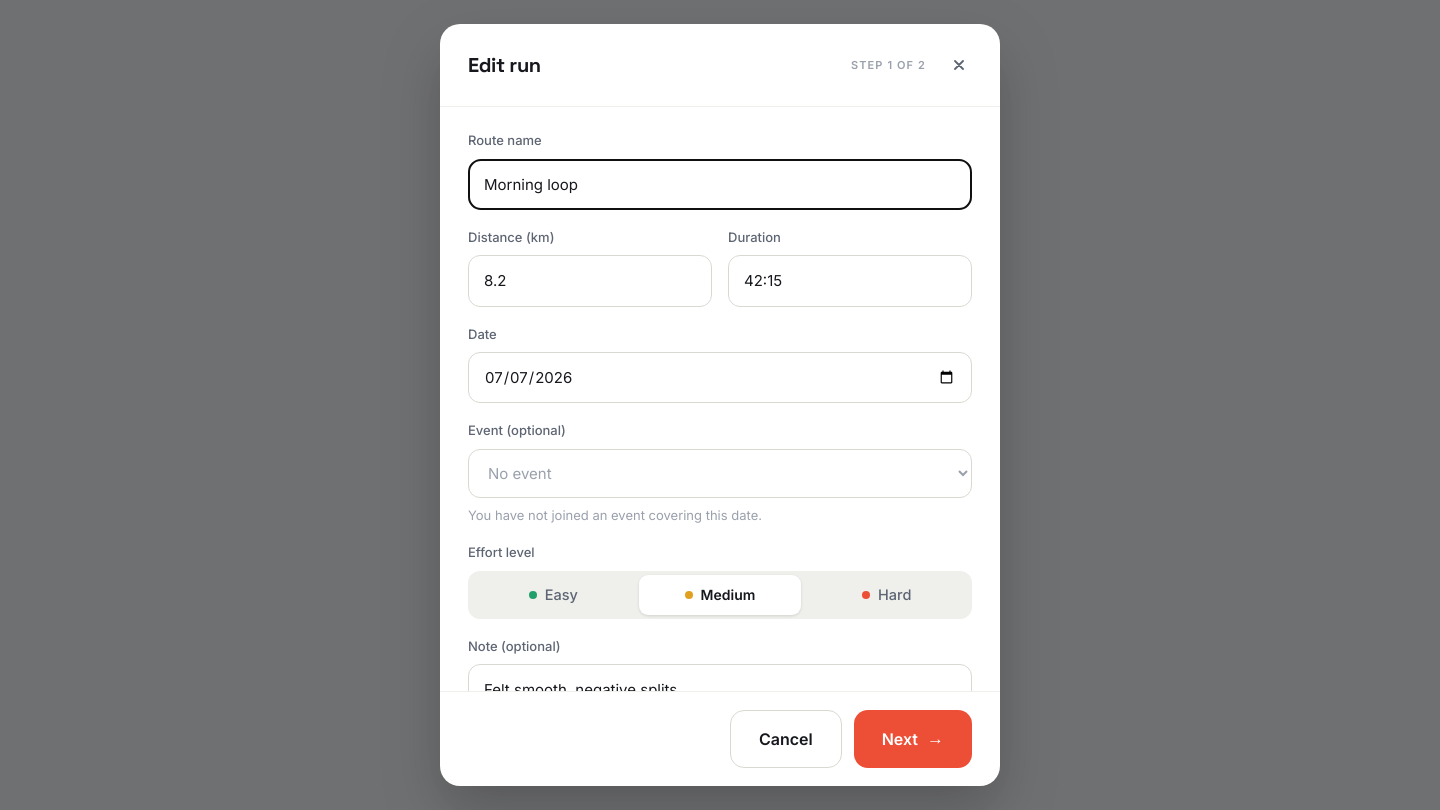
Test: Edit run modal (RUN-28) › refuses to save an empty route name and says so inline (AC4, EDT-3)
Clear the field labelled "Route name" at (720, 184), box x1=468 y1=158 x2=972 y2=210
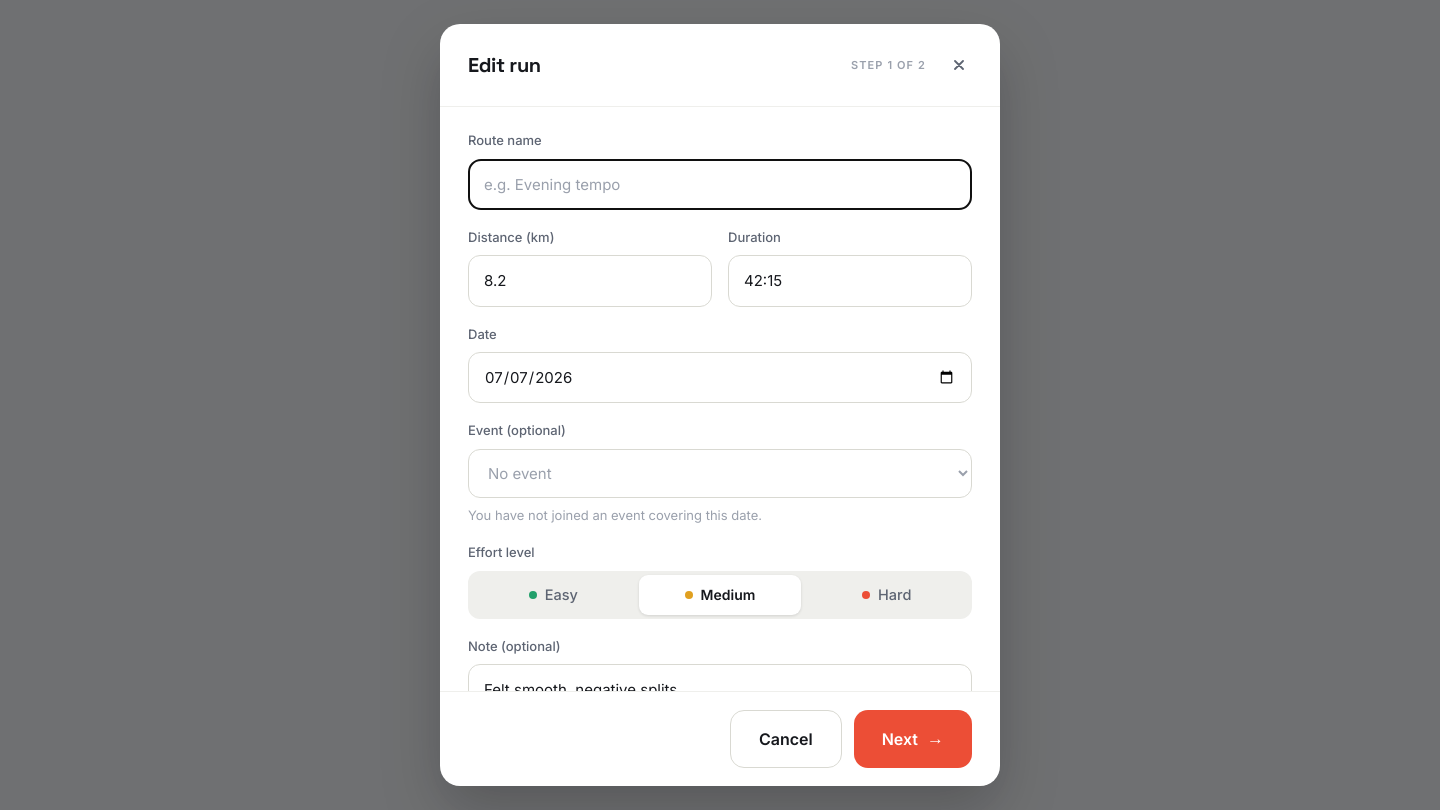
Click the button "Next →" at (913, 739), box x1=854 y1=710 x2=972 y2=768
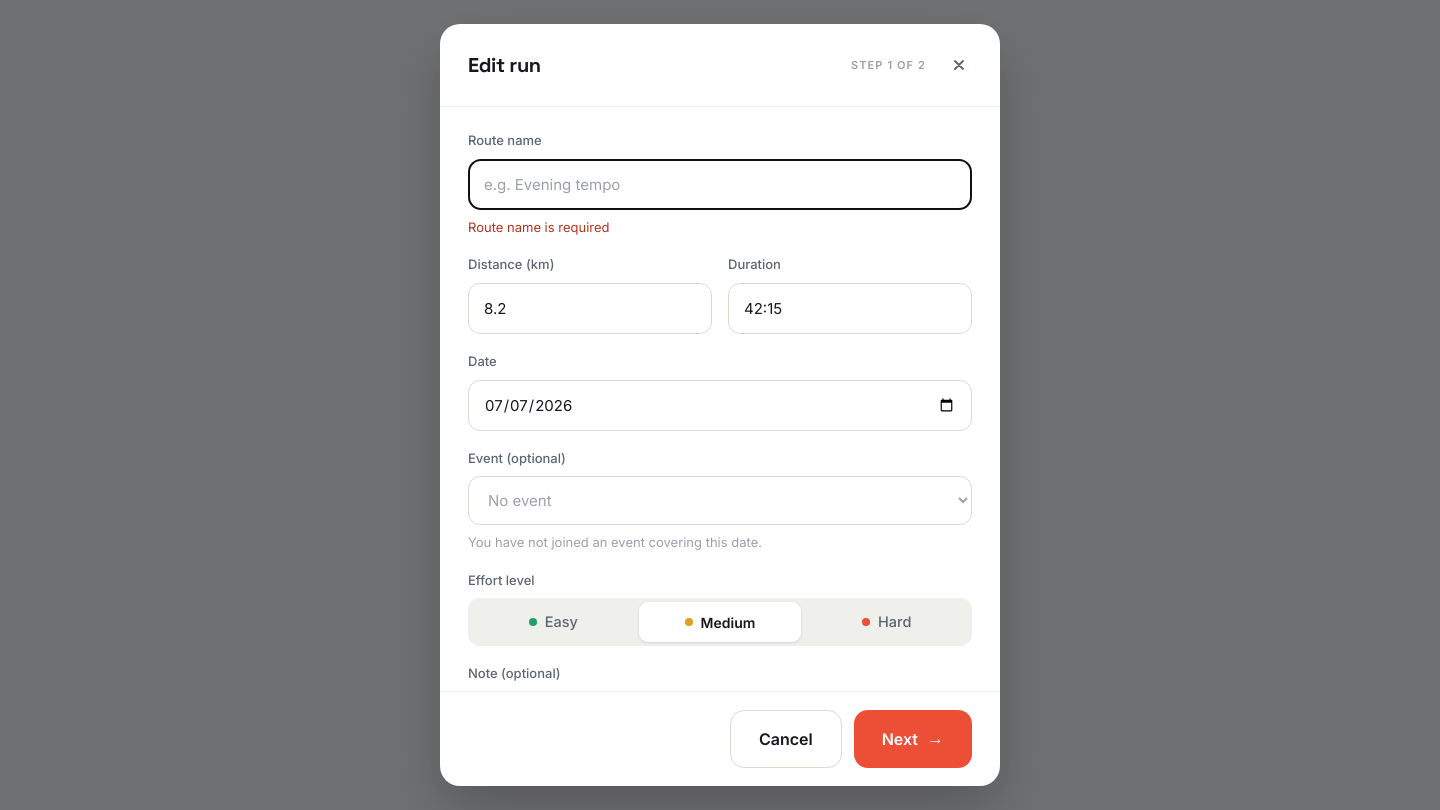
Now the message "Route name is required" is shown, box x1=468 y1=219 x2=610 y2=235
